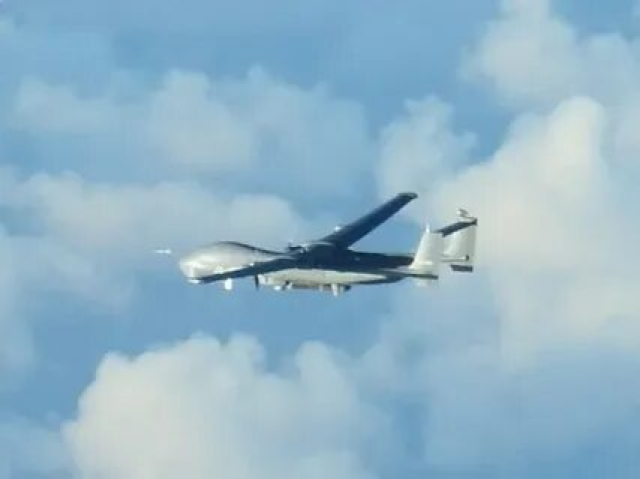military drone: (152, 192, 477, 296)
